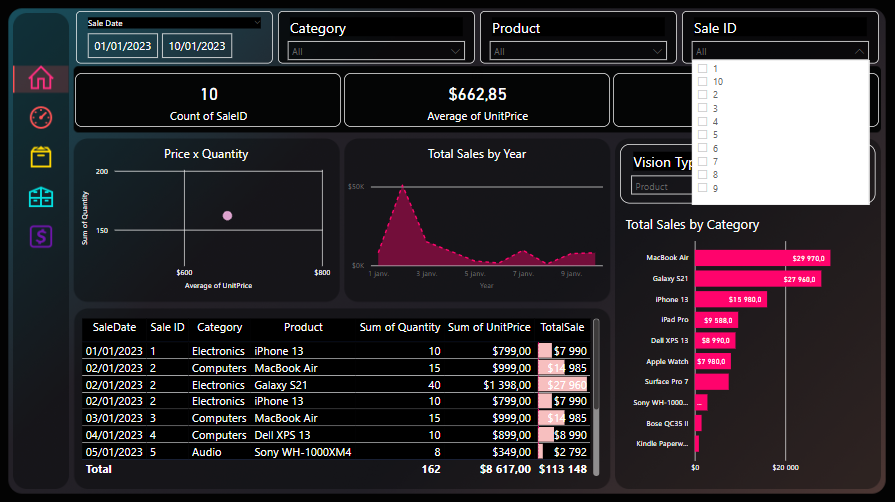

The dashboard page shown, as its layout file describes it:
{"tool":"powerbi","page":{"name":"Sales Dashboard","canvas":[1280,720],"ordinal":0},"visuals":[{"type":"slicer","fields":{"Values":["DataSet.SaleDate"]},"box":[110.6,17,280.6,75.1],"z":0},{"type":"slicer","fields":{"Values":["DataSet.Category"]},"box":[398.3,17,280.6,75.1],"z":1000},{"type":"slicer","fields":{"Values":["DataSet.Product"]},"box":[687.4,17,280.6,75.1],"z":2000},{"type":"slicer","fields":{"Values":["DataSet.SaleID"]},"box":[975.1,17,280.6,75.1],"z":3000},{"type":"clusteredBarChart","title":"Total Sales by Category","fields":{"Category":["DataSet.Product"],"Y":["DataMeasures.TotalSale"]},"box":[890.1,309,365.7,378.4],"z":4000},{"type":"slicer","fields":{"Values":["Z_CategoryProduct.Z_CategoryProduct"]},"box":[887.7,207.7,365.2,85.2],"z":5000},{"type":"card","fields":{"Values":["Count(DataSet.SaleID)"]},"box":[109.1,106.3,379.8,76.5],"z":6000},{"type":"card","fields":{"Values":["Avg(DataSet.UnitPrice)"]},"box":[493.2,106.3,379.8,76.5],"z":7000},{"type":"card","fields":{"Values":["DataMeasures.TotalSale"]},"box":[877.3,106.3,379.8,76.5],"z":8000},{"type":"scatterChart","title":"Price x Quantity","fields":{"X":["Avg(DataSet.UnitPrice)"],"Y":["Sum(DataSet.Quantity)"]},"box":[113.4,208.3,365.7,212.6],"z":9000},{"type":"tableEx","fields":{"Values":["DataSet.SaleDate","DataSet.SaleID","DataSet.Category","DataSet.Product","Sum(DataSet.Quantity)","Sum(DataSet.UnitPrice)","DataMeasures.TotalSale"]},"box":[113.4,452.1,749.8,235.3],"z":10000},{"type":"areaChart","title":"Total Sales by Year","fields":{"Category":["DataSet.SaleDate.Variation.Date Hierarchy.Year","DataSet.SaleDate.Variation.Date Hierarchy.Quarter","DataSet.SaleDate.Variation.Date Hierarchy.Month","DataSet.SaleDate.Variation.Date Hierarchy.Day"],"Y":["DataMeasures.TotalSale"]},"box":[493,208,380,213],"z":11000}]}

Visuals, with their boxes on the page's 1280x720 design canvas (x1, y1, x2, y2). These are canvas units, not pixel positions in the 895x502 screenshot, which may show the page scaled, cropped or inside an application window:
slicer - DataSet.SaleDate: {"x1": 111, "y1": 17, "x2": 391, "y2": 92}
slicer - DataSet.Category: {"x1": 398, "y1": 17, "x2": 679, "y2": 92}
slicer - DataSet.Product: {"x1": 687, "y1": 17, "x2": 968, "y2": 92}
slicer - DataSet.SaleID: {"x1": 975, "y1": 17, "x2": 1256, "y2": 92}
"Total Sales by Category" clusteredBarChart: {"x1": 890, "y1": 309, "x2": 1256, "y2": 687}
slicer - Z_CategoryProduct.Z_CategoryProduct: {"x1": 888, "y1": 208, "x2": 1253, "y2": 293}
card - Count(DataSet.SaleID): {"x1": 109, "y1": 106, "x2": 489, "y2": 183}
card - Avg(DataSet.UnitPrice): {"x1": 493, "y1": 106, "x2": 873, "y2": 183}
card - DataMeasures.TotalSale: {"x1": 877, "y1": 106, "x2": 1257, "y2": 183}
"Price x Quantity" scatterChart: {"x1": 113, "y1": 208, "x2": 479, "y2": 421}
tableEx - DataSet.SaleDate x DataSet.SaleID: {"x1": 113, "y1": 452, "x2": 863, "y2": 687}
"Total Sales by Year" areaChart: {"x1": 493, "y1": 208, "x2": 873, "y2": 421}
